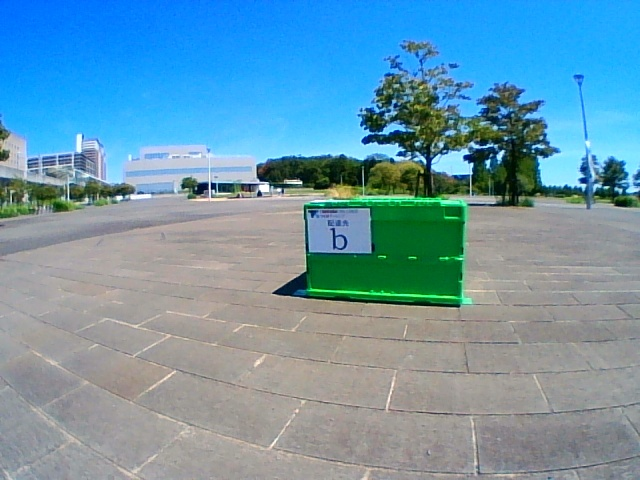green_box: (304, 198, 465, 307)
tag_b: (308, 209, 371, 252)
